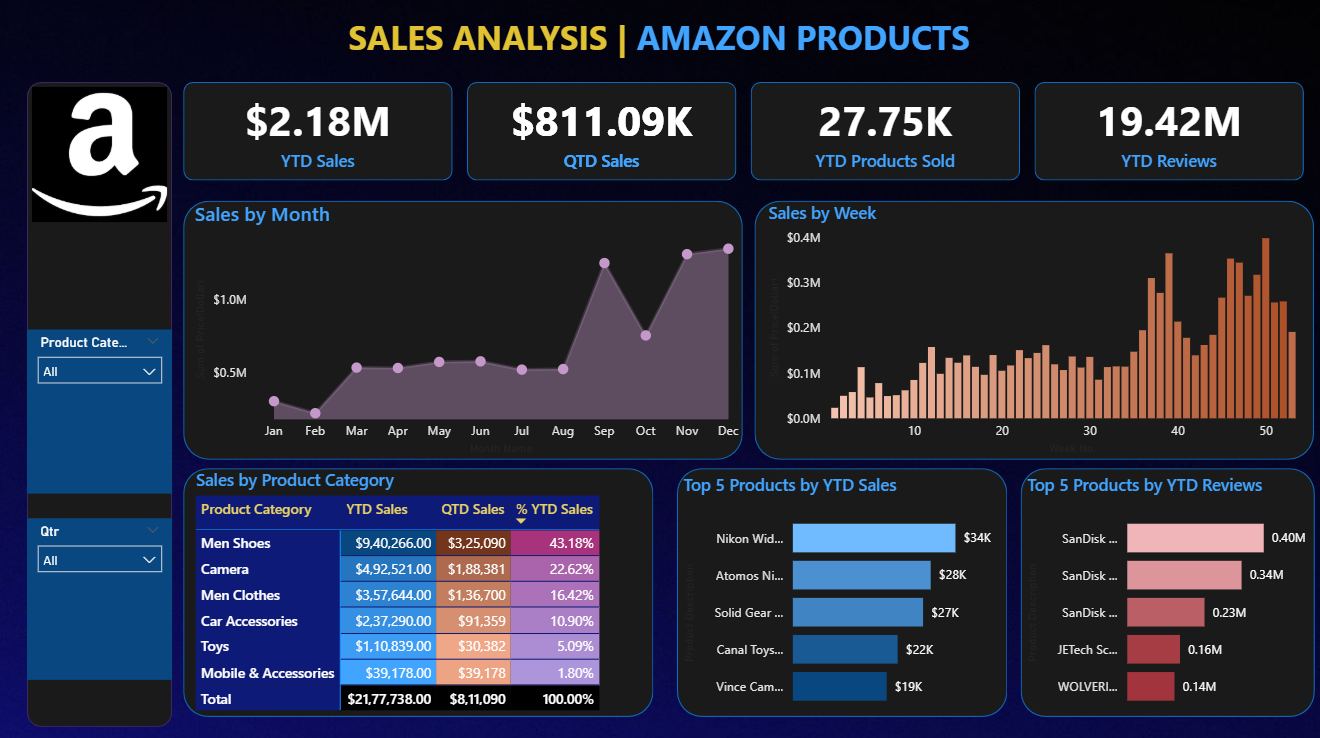

What the dashboard file says about the page in this screenshot:
{"tool":"powerbi","page":{"name":"Page 1","canvas":[1280,720],"ordinal":0},"visuals":[{"type":"shape","box":[453.8,82.5,260,95],"z":0,"group":"g1"},{"type":"shape","box":[28.8,82.5,140,622.5],"z":0},{"type":"shape","box":[180,82.5,260,95],"z":1000,"group":"g1"},{"type":"textbox","box":[333.8,12.5,613.8,53.8],"z":1000},{"type":"card","fields":{"Values":["Amazon_Data.YTD Sales"]},"box":[180,82.5,260,95],"z":2000,"group":"g1"},{"type":"group","id":"g1","title":"Group 1","box":[180,82.5,1081.2,95],"z":2000},{"type":"card","fields":{"Values":["Amazon_Data.QTD Sales"]},"box":[453.8,82.5,260,95],"z":3000,"group":"g1"},{"type":"card","fields":{"Values":["Amazon_Data.QTD Sales"]},"box":[453.8,82.5,260,95],"z":3000},{"type":"shape","box":[727.5,82.5,260,95],"z":4000,"group":"g1"},{"type":"shape","box":[180,196.2,540,250],"z":4000},{"type":"shape","box":[1001.2,82.5,260,95],"z":5000,"group":"g1"},{"type":"areaChart","title":"Sales by Month","fields":{"Category":["Date Table.Month Name"],"Y":["Sum(Amazon_Data.Price(Dollar))"]},"box":[186.2,196.2,541.2,250],"z":5000},{"type":"card","fields":{"Values":["Amazon_Data.YTD Products Sold"]},"box":[727.5,82.5,260,95],"z":6000,"group":"g1"},{"type":"shape","box":[731.2,196.2,540,250],"z":6000},{"type":"card","fields":{"Values":["Amazon_Data.YTD Reviews"]},"box":[1001.2,82.5,260,95],"z":7000,"group":"g1"},{"type":"columnChart","title":"Sales by Week","fields":{"Category":["Date Table.Week No."],"Y":["Sum(Amazon_Data.Price(Dollar))"]},"box":[740,196.2,540,250],"z":7000},{"type":"shape","box":[180,455,453.8,240],"z":8000},{"type":"pivotTable","title":"Sales by Product Category","fields":{"Rows":["Amazon_Data.Product Category"],"Values":["Amazon_Data.YTD Sales1","Amazon_Data.QTD Sales","Amazon_Data.YTD Sales"]},"box":[187.5,455,411.2,250],"z":9000},{"type":"shape","box":[656.2,455,318.8,240],"z":10000},{"type":"shape","box":[987.5,455,283.8,240],"z":11000},{"type":"clusteredBarChart","title":"Top 5 Products by YTD Sales ","fields":{"Category":["Amazon_Data.Product Description"],"Y":["Amazon_Data.YTD Sales"]},"box":[657.5,460,318.8,240],"z":12000},{"type":"clusteredBarChart","title":"Top 5 Products by YTD Reviews","fields":{"Category":["Amazon_Data.Product Description"],"Y":["Amazon_Data.YTD Reviews"]},"box":[988.8,460,283.8,240],"z":13000},{"type":"slicer","fields":{"Values":["Amazon_Data.Product Category"]},"box":[28.8,321.2,140,158.8],"z":14000},{"type":"slicer","fields":{"Values":["Date Table.Qtr"]},"box":[28.8,502.5,140,156.2],"z":15000},{"type":"image","box":[28.8,82.5,140,140],"z":16000}]}

Visuals, with their boxes in screenshot pixels (x1, y1, x2, y2), scaled from the page's 1280x720 canvas onto the 1320x738 screenshot:
shape: (left=468, top=85, right=736, bottom=182)
shape: (left=30, top=85, right=174, bottom=723)
shape: (left=186, top=85, right=454, bottom=182)
textbox: (left=344, top=13, right=977, bottom=68)
card - Amazon_Data.YTD Sales: (left=186, top=85, right=454, bottom=182)
"Group 1" group: (left=186, top=85, right=1301, bottom=182)
card - Amazon_Data.QTD Sales: (left=468, top=85, right=736, bottom=182)
card - Amazon_Data.QTD Sales: (left=468, top=85, right=736, bottom=182)
shape: (left=750, top=85, right=1018, bottom=182)
shape: (left=186, top=201, right=742, bottom=457)
shape: (left=1032, top=85, right=1301, bottom=182)
"Sales by Month" areaChart: (left=192, top=201, right=750, bottom=457)
card - Amazon_Data.YTD Products Sold: (left=750, top=85, right=1018, bottom=182)
shape: (left=754, top=201, right=1311, bottom=457)
card - Amazon_Data.YTD Reviews: (left=1032, top=85, right=1301, bottom=182)
"Sales by Week" columnChart: (left=763, top=201, right=1319, bottom=457)
shape: (left=186, top=466, right=654, bottom=712)
"Sales by Product Category" pivotTable: (left=193, top=466, right=617, bottom=723)
shape: (left=677, top=466, right=1005, bottom=712)
shape: (left=1018, top=466, right=1311, bottom=712)
"Top 5 Products by YTD Sales " clusteredBarChart: (left=678, top=471, right=1007, bottom=717)
"Top 5 Products by YTD Reviews" clusteredBarChart: (left=1020, top=471, right=1312, bottom=717)
slicer - Amazon_Data.Product Category: (left=30, top=329, right=174, bottom=492)
slicer - Date Table.Qtr: (left=30, top=515, right=174, bottom=675)
image: (left=30, top=85, right=174, bottom=228)
